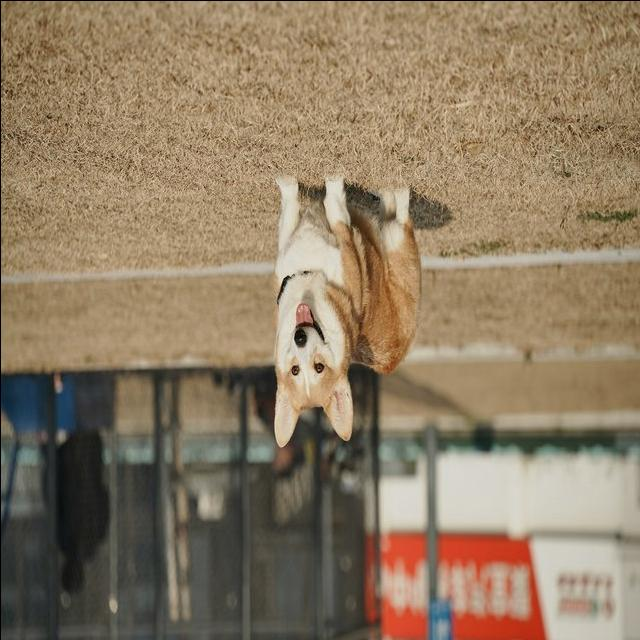corgi: (271, 172, 422, 448)
